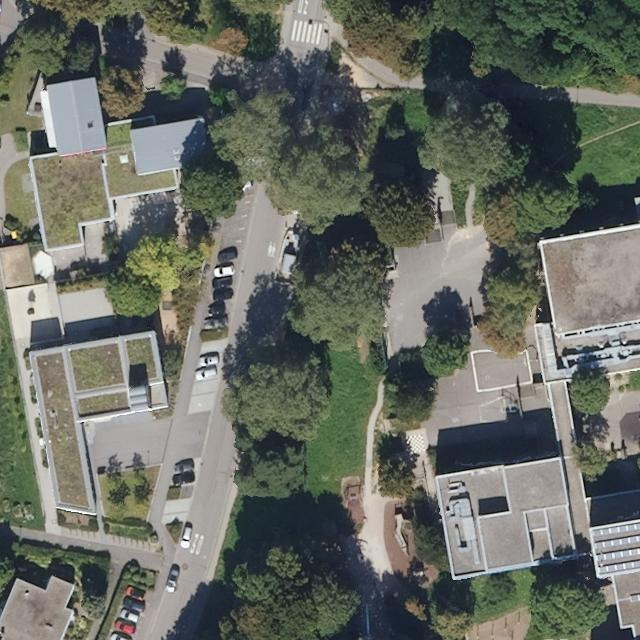PV: (592, 522, 639, 577)
